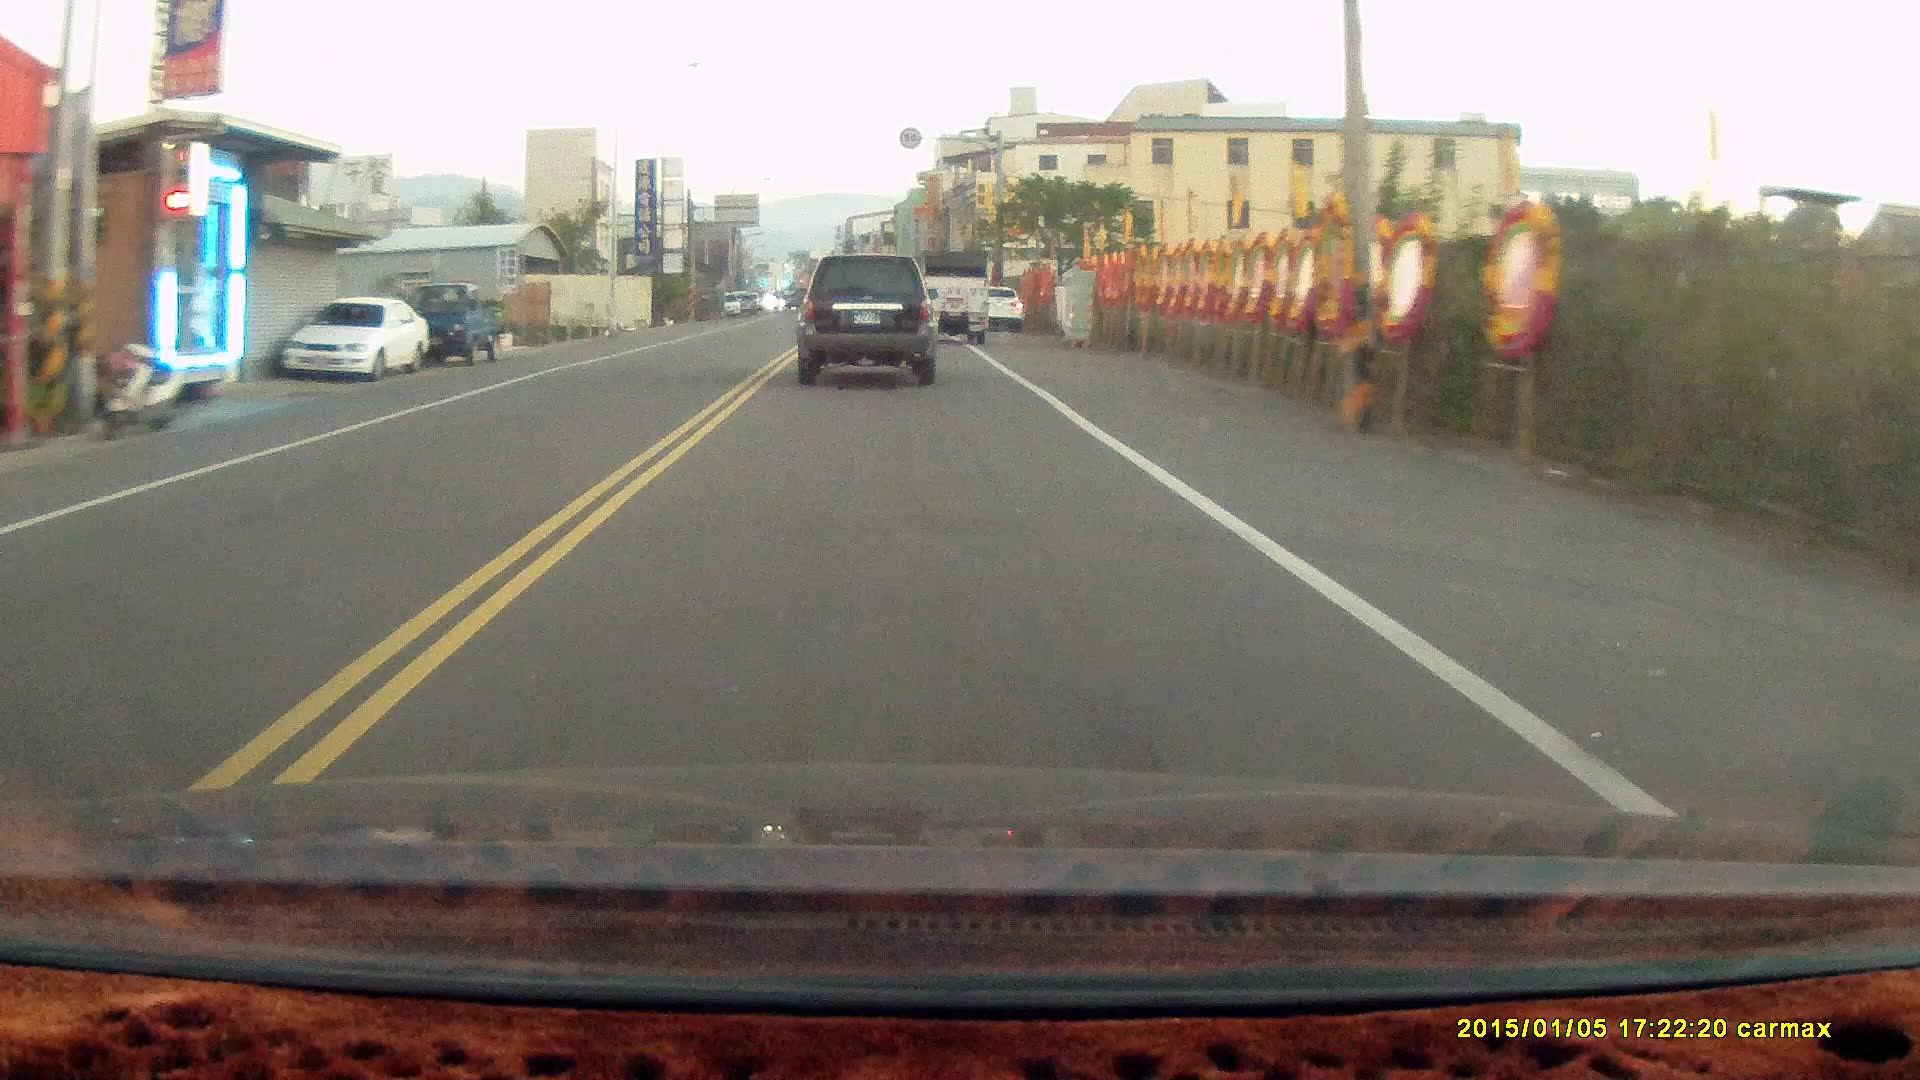vehicle: (800, 249, 943, 382), (284, 291, 433, 380), (406, 280, 513, 367), (916, 247, 994, 344)
